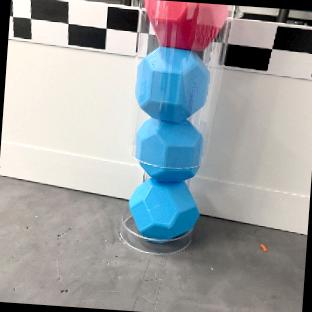V5_BLUE: (135, 46, 208, 120), (128, 177, 198, 239), (135, 118, 202, 179)
V5_RED: (144, 0, 228, 51)
